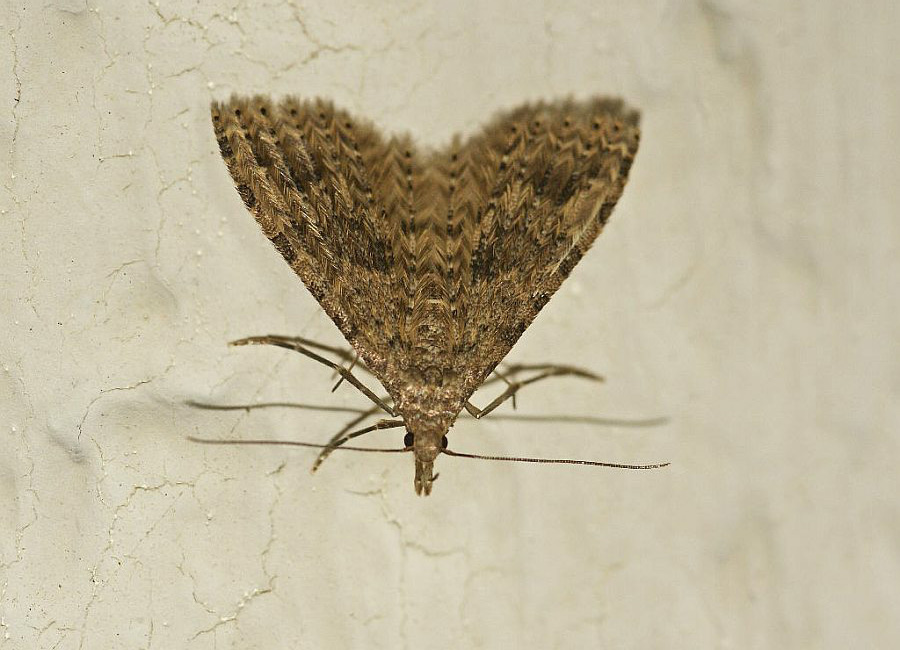Alucitidae: (178, 77, 677, 504)
moth: (180, 79, 679, 506)
